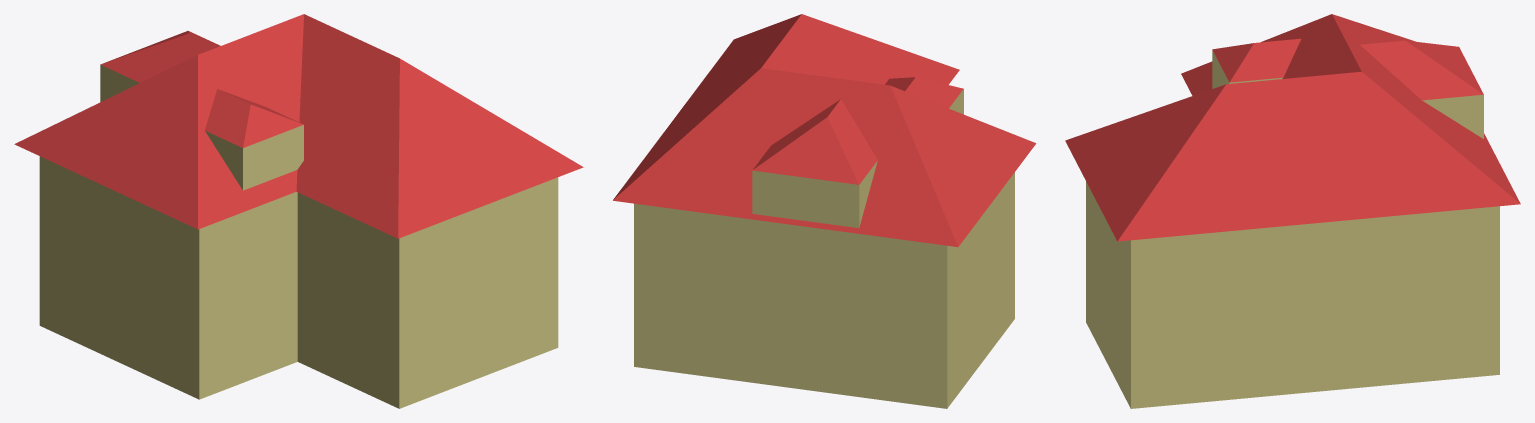
The picture shows the model from 3 angles, left to right: view 1: azimuth 30°, elevation 25°; view 2: azimuth 150°, elevation 25°; view 3: azimuth 270°, elevation 25°; orthographic projection. The views are drawn at different scales.
Bounding box in the file's own units: 19.25 × 19.33 × 12.76.
